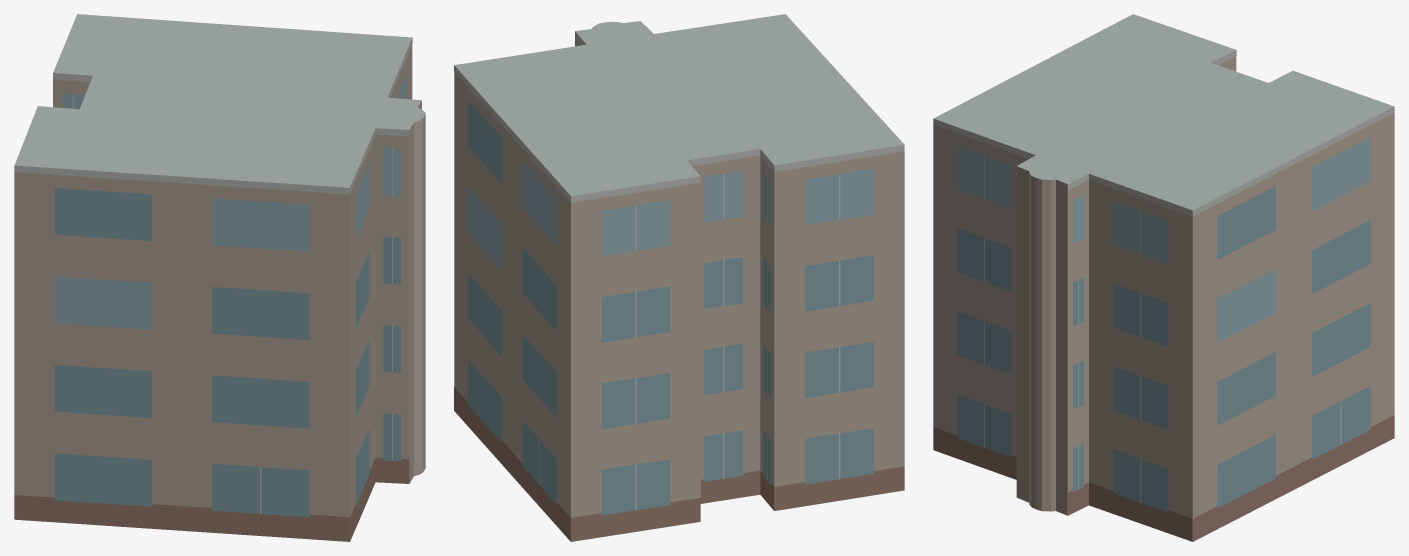
The model's file is survey-upis-33032311.glb.
3 views of the same model, side by side, from view 1: azimuth 30°, elevation 25°; view 2: azimuth 150°, elevation 25°; view 3: azimuth 270°, elevation 25° (orthographic). The views are drawn at different scales.
Parts seen in each view (by area): view 1: survey-upis-33032311.tmp; view 2: survey-upis-33032311.tmp; view 3: survey-upis-33032311.tmp.
Boxes of the visible parts, left/top/right/bottom form: survey-upis-33032311.tmp: left=14, top=14, right=425, bottom=541; survey-upis-33032311.tmp: left=454, top=14, right=904, bottom=541; survey-upis-33032311.tmp: left=933, top=14, right=1394, bottom=541.
Size of the model in its own units: 16.46 by 12.95 by 16.34.
